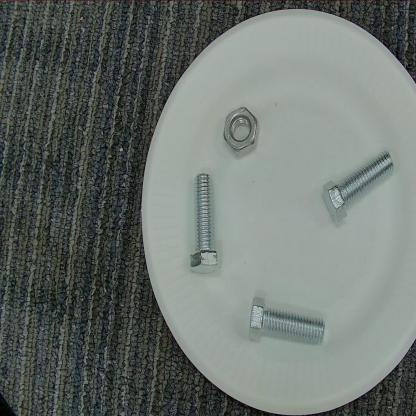FOD: (319, 146, 397, 232), (248, 290, 335, 352), (181, 170, 225, 278), (221, 102, 261, 168)
